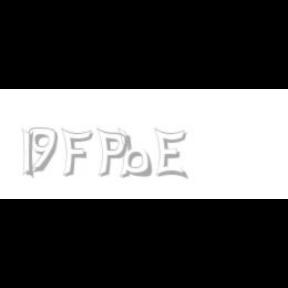9: (28, 128, 58, 172)
E: (154, 128, 188, 180)
F: (60, 128, 92, 178)
P: (96, 128, 128, 178)
b: (117, 128, 155, 178)
l: (22, 128, 38, 180)
